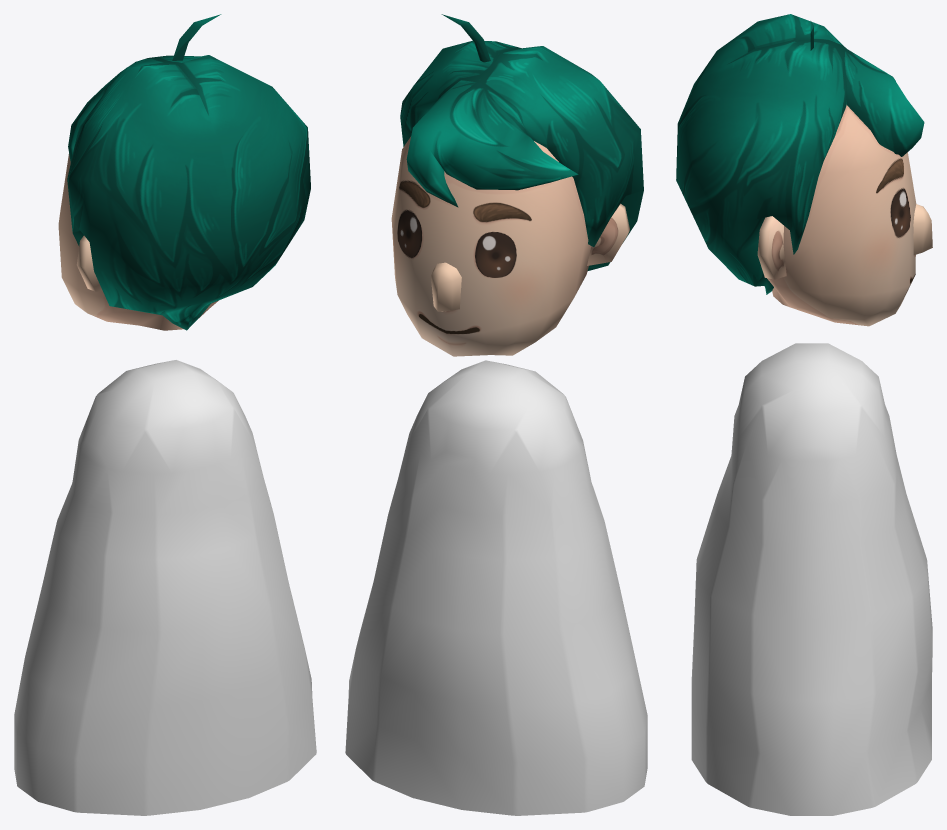
The model's file is curious_boy_4.glb.
The picture shows the model from 3 angles, left to right: view 1: azimuth 30°, elevation 25°; view 2: azimuth 150°, elevation 25°; view 3: azimuth 270°, elevation 25°; orthographic projection.
Visible parts, largest first — view 1: body, head; view 2: body, head; view 3: body, head.
Boxes of the visible parts, box(x1,y1,x2,y2) form: body: box(14, 360, 316, 815); head: box(58, 14, 310, 330); body: box(345, 360, 647, 815); head: box(391, 14, 643, 356); body: box(691, 343, 932, 815); head: box(676, 14, 932, 326).
Bounding box in the file's own units: 0.4347 × 1.11 × 0.3464.
2 materials, 1 textured.
